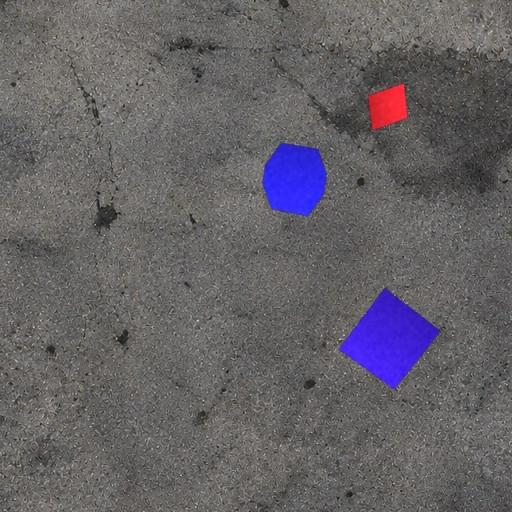BLUE_SQUARE: (338, 286, 442, 390)
RED_SQUARE: (367, 82, 409, 132)
